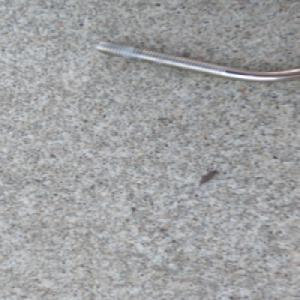ClampPart: (94, 38, 300, 84)
